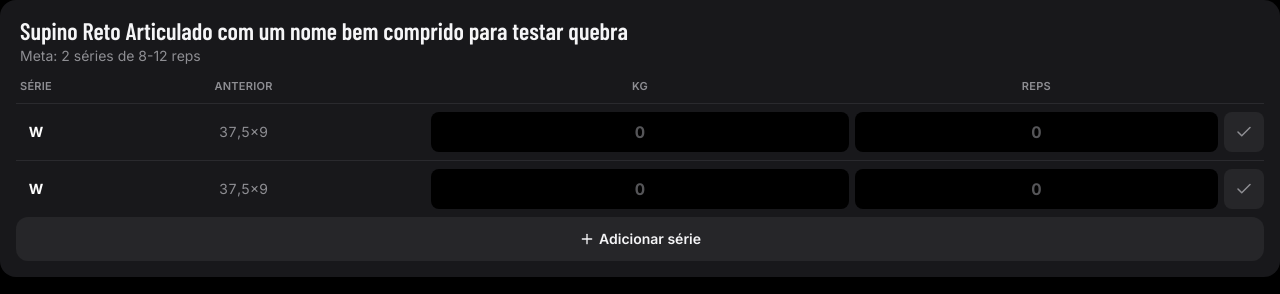
Scenario: ExerciseSessionCard › tocar no "anterior" preenche peso e reps
This screenshot has width=1280, height=294.
Click the button named "Repetir valores da última vez".
click(244, 132)  # box x1=62 y1=114 x2=425 y2=150
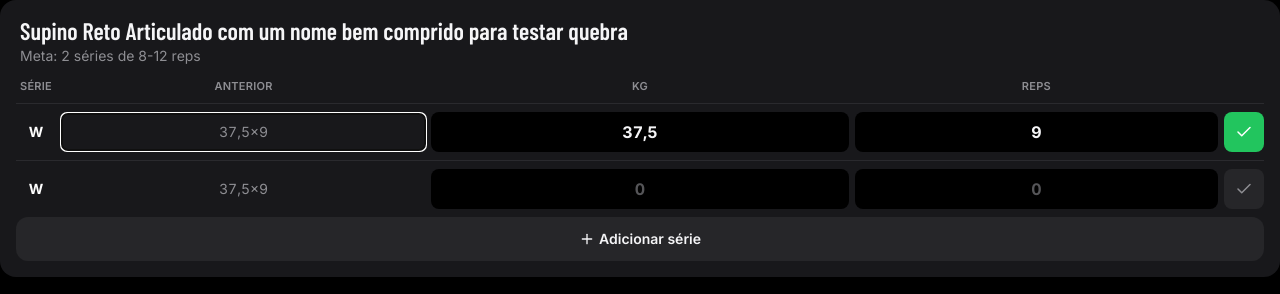
expect the field named "Peso em kg" holds "37,5": met, box x1=431 y1=112 x2=849 y2=152
expect the field named "Repetições" holds "9": met, box x1=855 y1=112 x2=1218 y2=152
